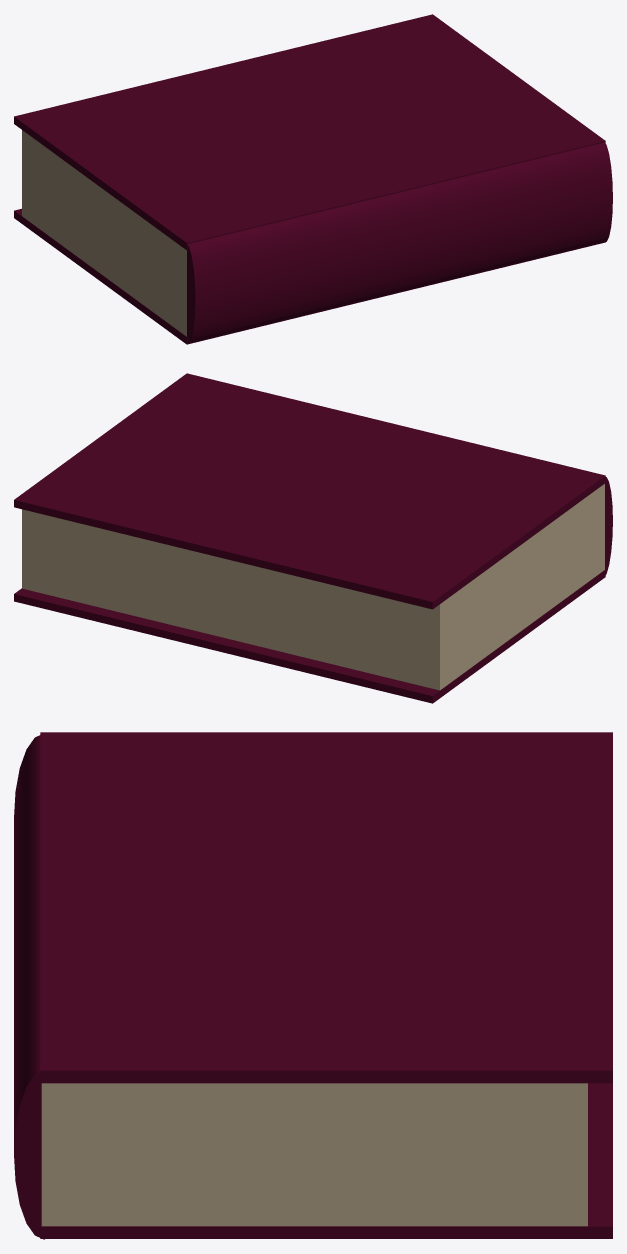
The model's file is book.fbx.
3 renders of one model, top to bottom at view 1: azimuth 30°, elevation 25°; view 2: azimuth 150°, elevation 25°; view 3: azimuth 270°, elevation 25°, orthographic. The views are drawn at different scales.
Visible parts, largest first — view 1: pCube2, pCylinder1, pCube1, pasted__pCube2; view 2: pCube2, pCube1, pasted__pCube2, pCylinder1; view 3: pCube2, pCube1, pCylinder1, pasted__pCube2.
Part boxes in pixels (x1,y1,x2,y2): pCube2: [14, 14, 605, 250]; pCylinder1: [187, 142, 612, 343]; pCube1: [22, 130, 186, 336]; pasted__pCube2: [14, 208, 605, 344]; pCube2: [14, 373, 605, 609]; pCube1: [22, 484, 604, 690]; pasted__pCube2: [14, 569, 605, 703]; pCylinder1: [605, 477, 612, 574]; pCube2: [40, 732, 612, 1083]; pCube1: [41, 1083, 587, 1226]; pCylinder1: [14, 735, 44, 1239]; pasted__pCube2: [40, 1083, 612, 1238].
Bounding box in the file's own units: 6.05 × 1.41 × 4.53.
